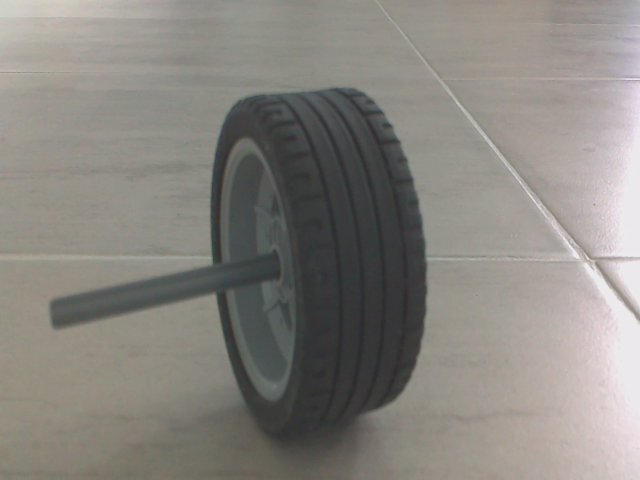Rad+Grau_lang: (44, 83, 433, 445)
